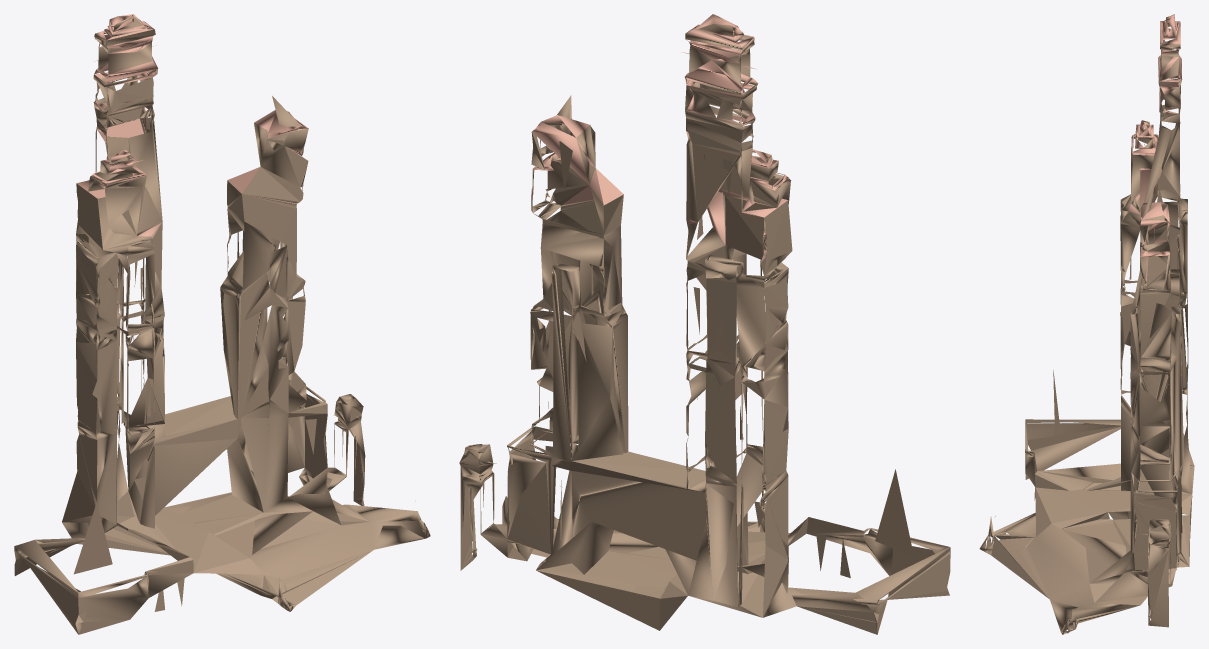
File: templo_grande_a.glb
3 renders of one model, left to right at view 1: azimuth 30°, elevation 25°; view 2: azimuth 150°, elevation 25°; view 3: azimuth 270°, elevation 25°, orthographic. The views are drawn at different scales.
Visible parts, largest first — view 1: templo_grande_a; view 2: templo_grande_a; view 3: templo_grande_a.
Part boxes in pixels (left/top/right/bottom): templo_grande_a: left=14, top=14, right=430, bottom=634; templo_grande_a: left=459, top=14, right=950, bottom=634; templo_grande_a: left=979, top=14, right=1194, bottom=634.
Size of the model in its own units: 30.79 by 42.77 by 16.48.
